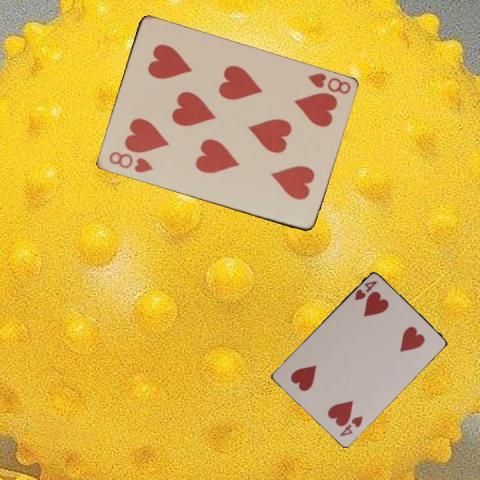4h: (337, 413, 364, 438), (351, 278, 379, 302)
8h: (105, 148, 154, 175), (304, 70, 352, 96)
